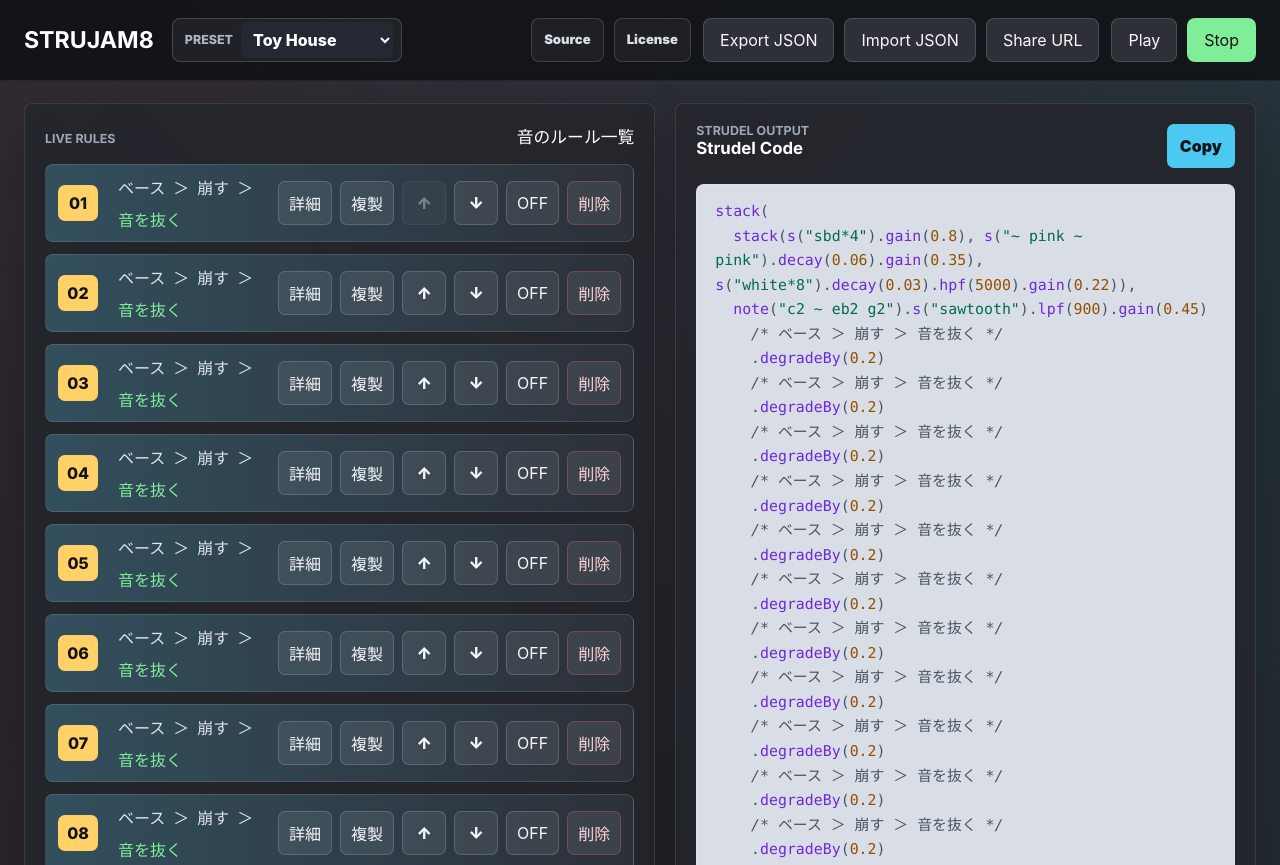
it: App interactions › directs large jams to JSON export instead of copying an unusable URL
The image size is (1280, 865).
Click the button "Share URL" at (1043, 40), box [986,18,1099,62]
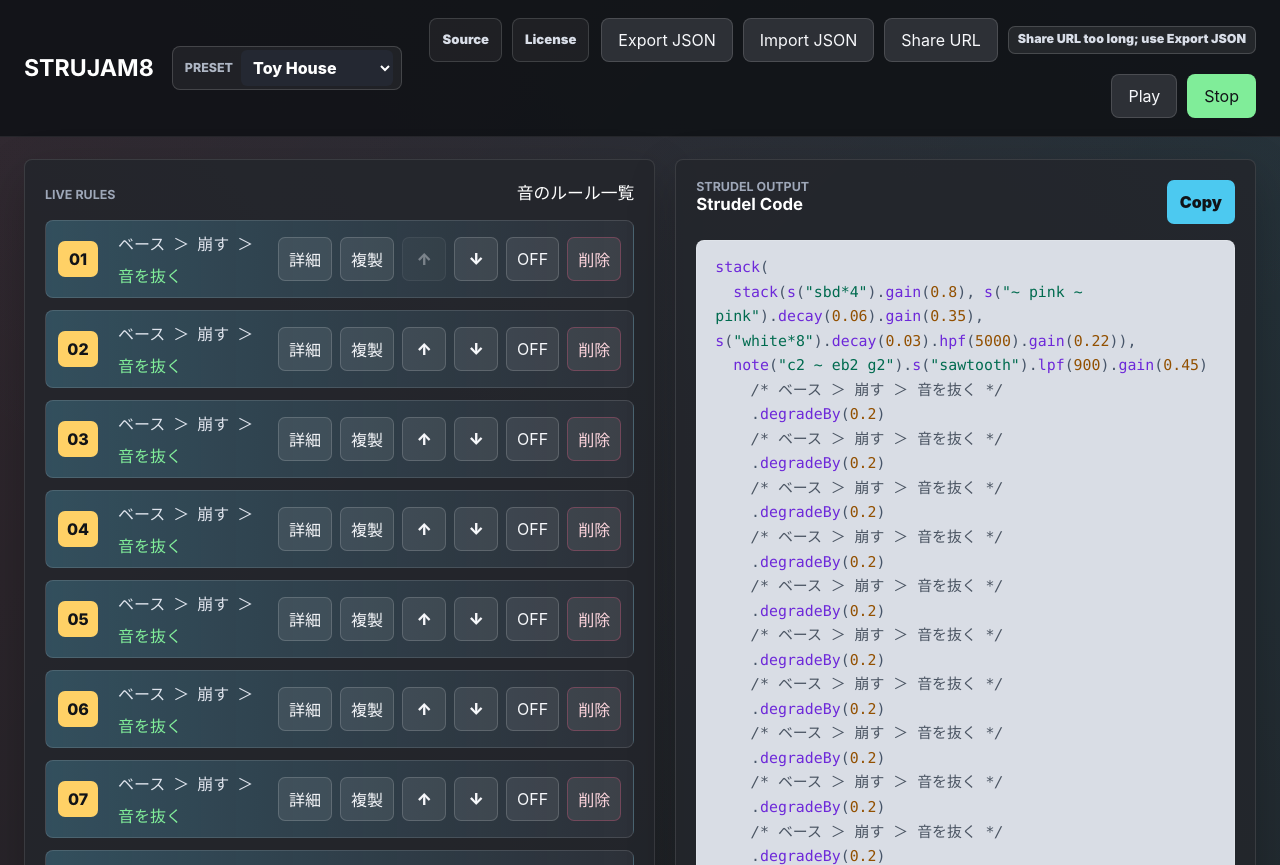
Expected: the text "Share URL too long; use Export JSON" is shown, [1008,26,1256,54]
